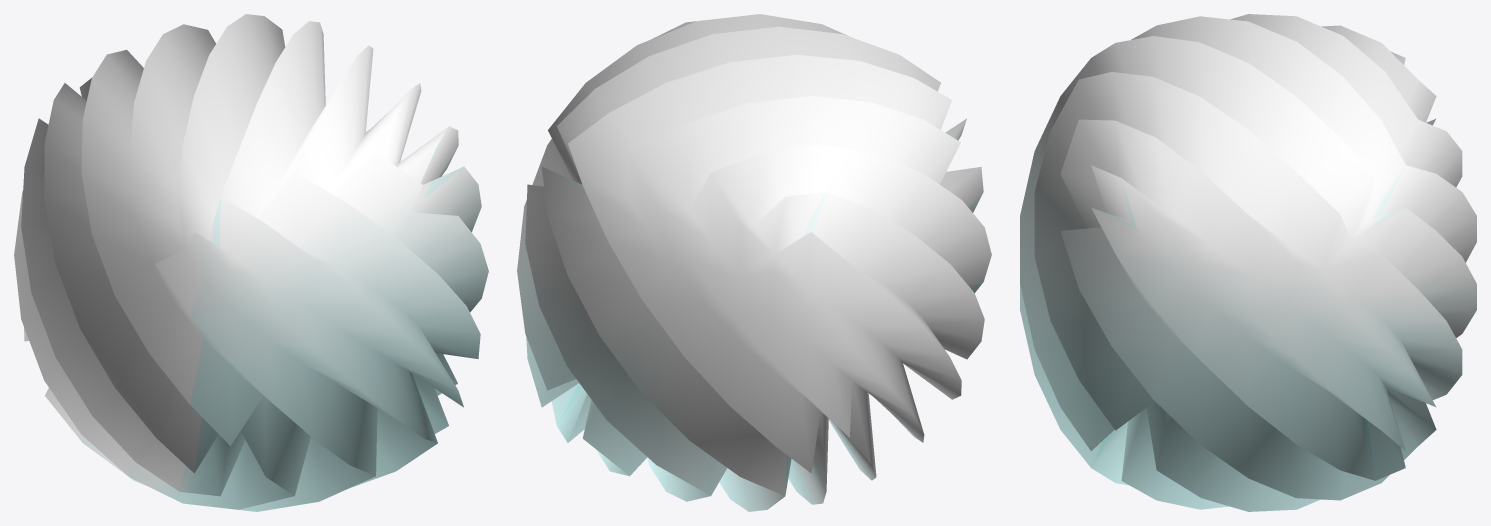
File: Air_Pick_Up.fbx
3 renders of one model, left to right at view 1: azimuth 30°, elevation 25°; view 2: azimuth 150°, elevation 25°; view 3: azimuth 270°, elevation 25°, orthographic.
Visible parts, largest first — view 1: Cube; view 2: Cube; view 3: Cube.
Part boxes in pixels (x1,y1,x2,y2): Cube: [14, 14, 488, 511]; Cube: [517, 14, 991, 511]; Cube: [1020, 14, 1476, 511].
Bounding box in the file's own units: 155 × 165 × 155.
Materials: 1 (1 with a texture image).
